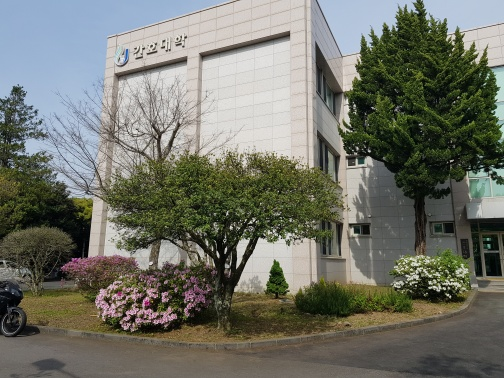College of Nursing: (106, 18, 498, 286), (114, 33, 190, 71)
